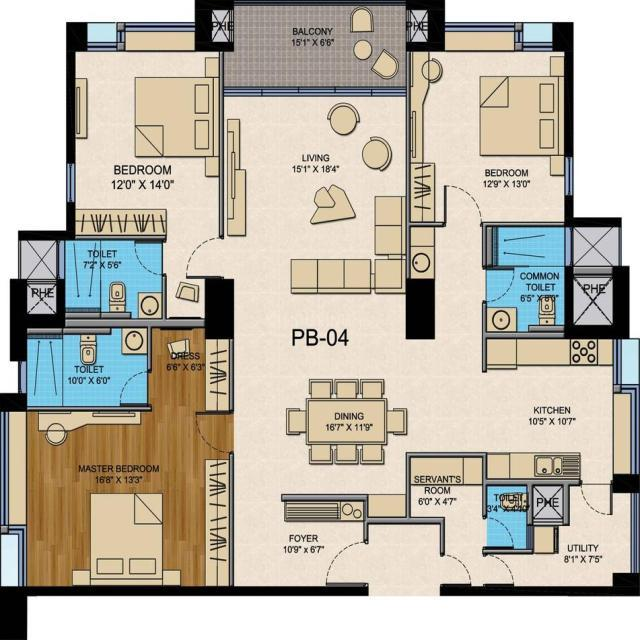Balcony-Sitout: (227, 9, 402, 87)
Bedroom: (413, 56, 559, 216)
Bedroom with Toilet: (25, 325, 230, 587), (73, 50, 228, 321)
Dining: (280, 373, 411, 469)
Dress: (152, 327, 223, 406)
Enterance-Foyer: (370, 526, 443, 595)
Kitchen: (487, 344, 614, 477)
Living: (234, 100, 403, 300)
Toilet: (28, 330, 144, 409), (491, 233, 567, 325), (67, 246, 162, 316), (483, 488, 525, 551)
Utility: (567, 491, 630, 583)
